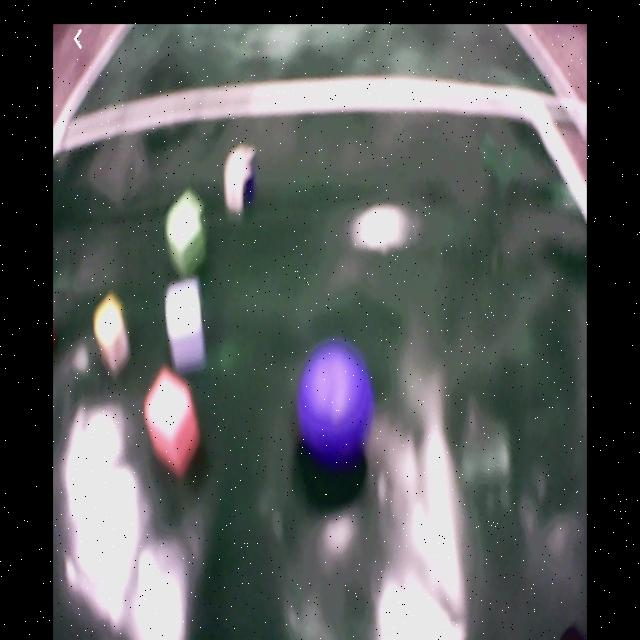ball: (300, 342, 370, 458)
